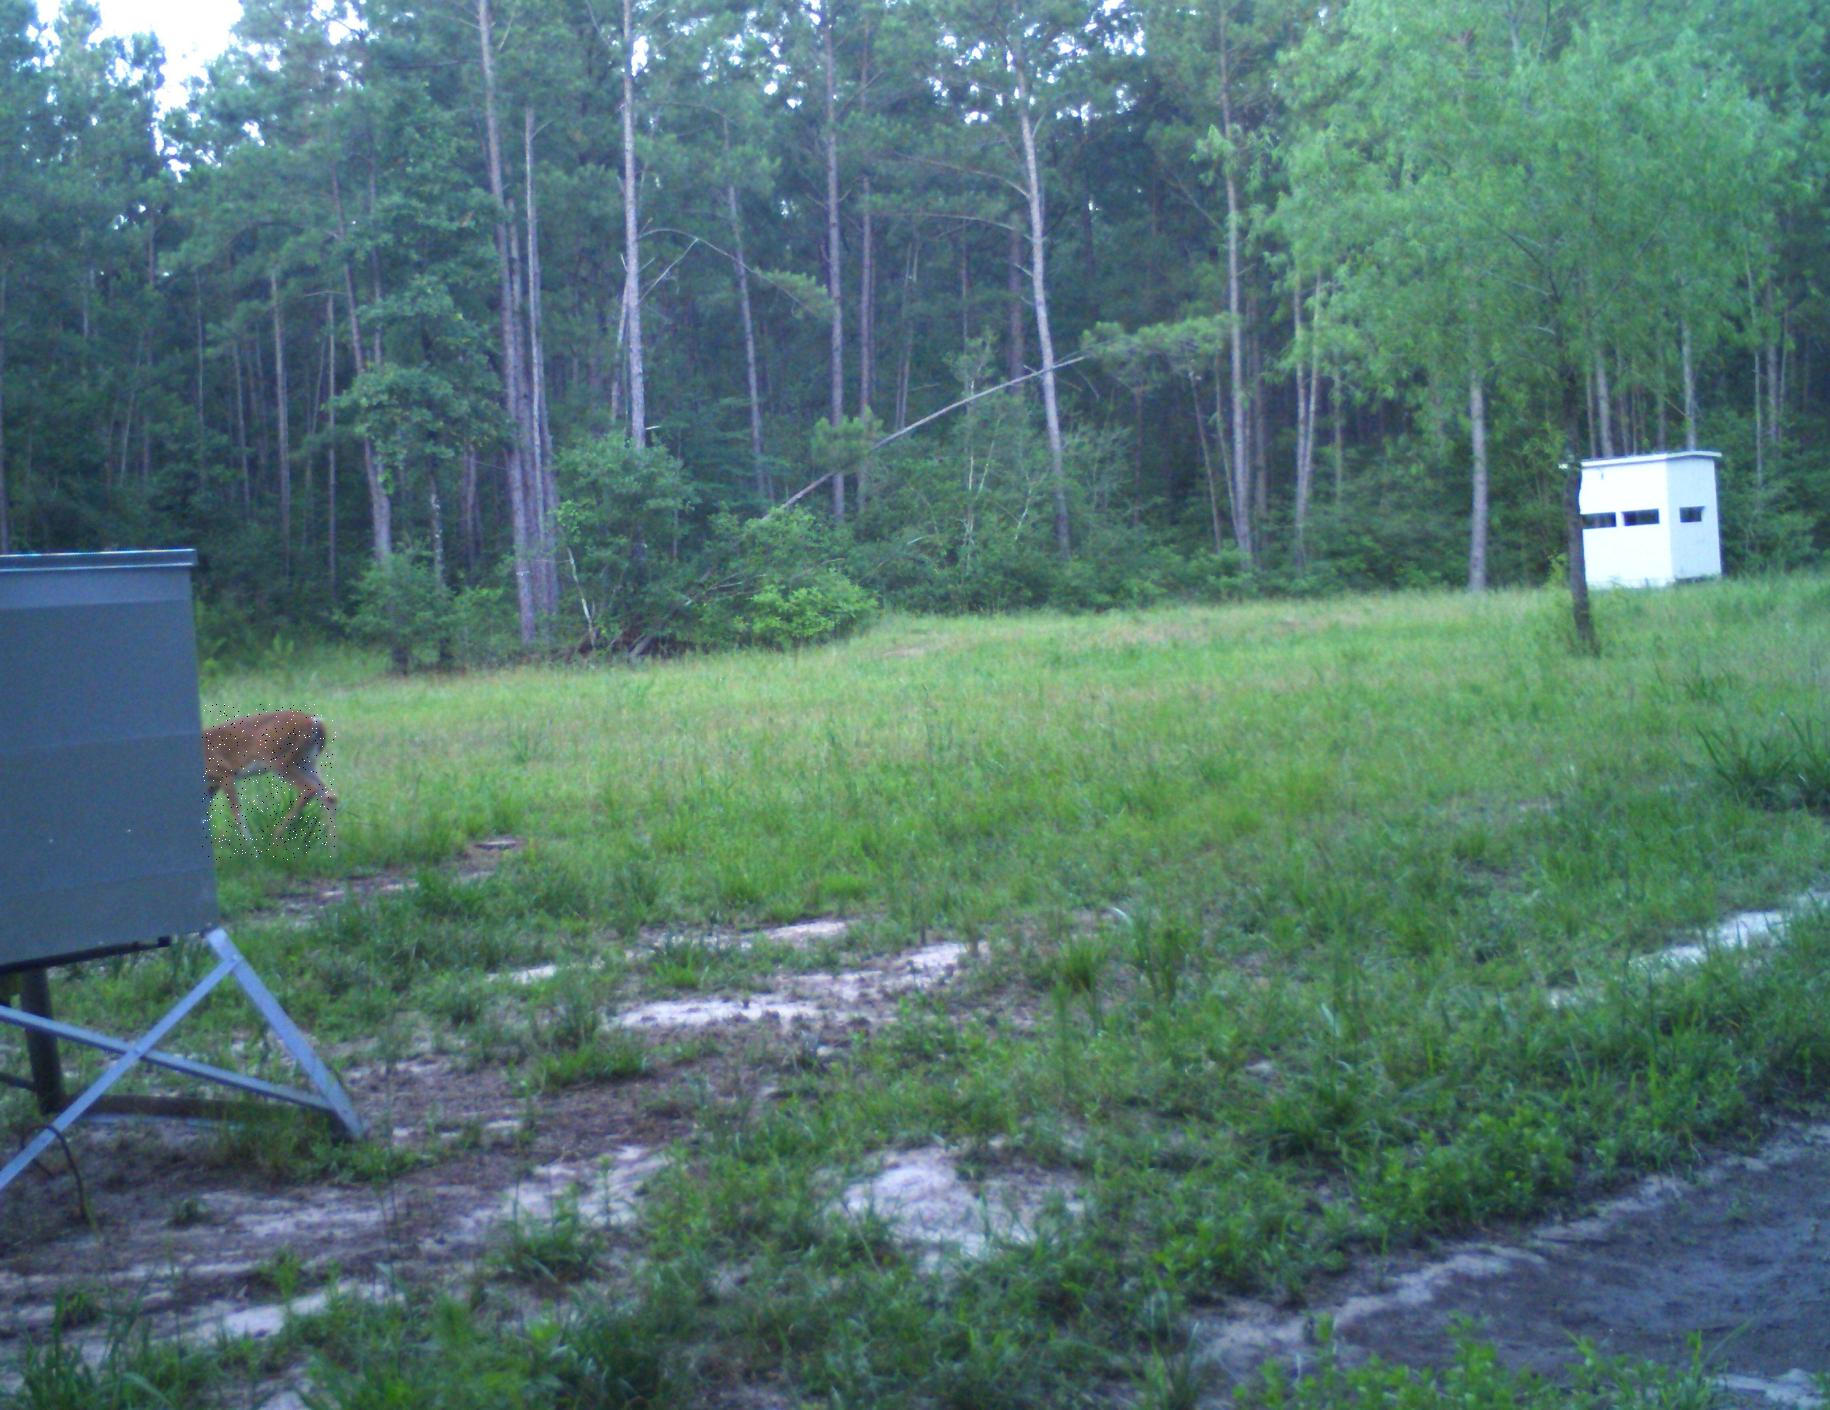Deer: (201, 704, 336, 861)
